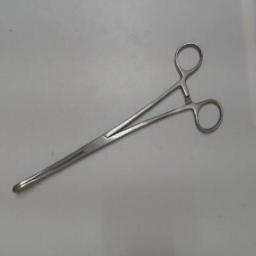Sponge Forceps: (8, 36, 224, 198)
